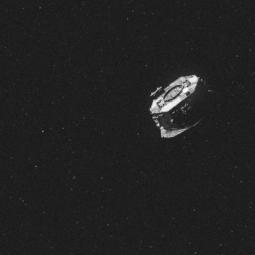lisa_pathfinder: (142, 68, 229, 147)
